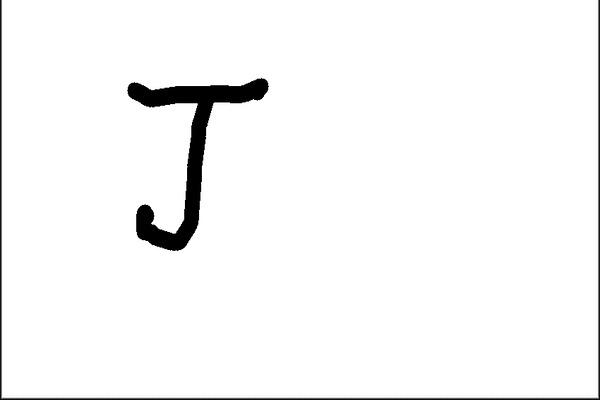J: (119, 74, 274, 255)
